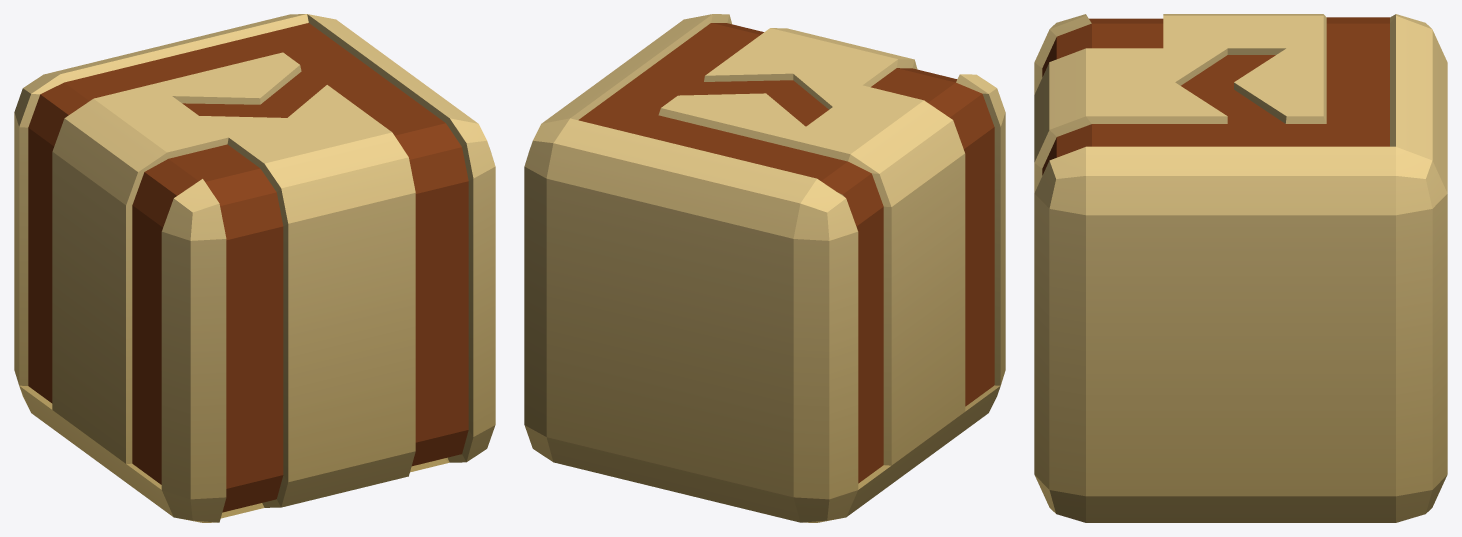
The model's file is Tile_Snake_Turn_White_01.fbx.
The picture shows the model from 3 angles, left to right: view 1: azimuth 30°, elevation 25°; view 2: azimuth 150°, elevation 25°; view 3: azimuth 270°, elevation 25°; orthographic projection. The views are drawn at different scales.
Visible parts, largest first — view 1: Jalur Ular Belok Putih; view 2: Jalur Ular Belok Putih; view 3: Jalur Ular Belok Putih.
Part boxes in pixels (x1,y1,x2,y2): Jalur Ular Belok Putih: [14, 14, 495, 522]; Jalur Ular Belok Putih: [524, 14, 1005, 522]; Jalur Ular Belok Putih: [1034, 14, 1447, 522].
Size of the model in its own units: 1 by 1 by 1.
1 material, 1 textured.
